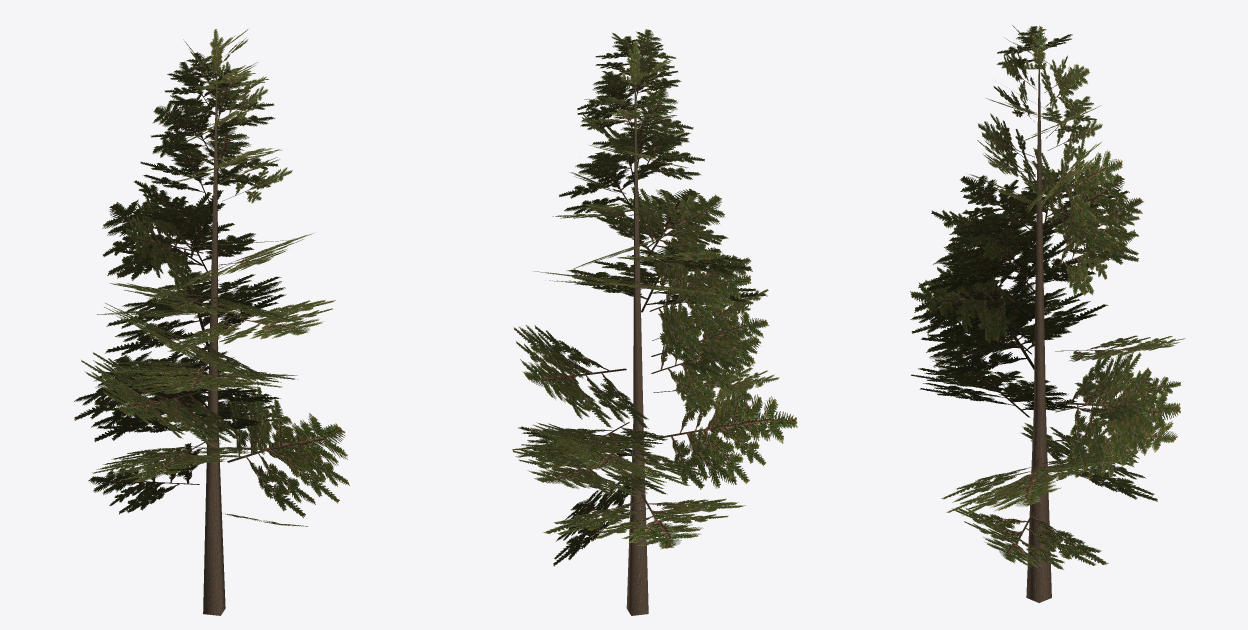
Rendered from fir_medium_a_lod5.gltf.
3 renders of one model, left to right at view 1: azimuth 30°, elevation 25°; view 2: azimuth 150°, elevation 25°; view 3: azimuth 270°, elevation 25°, orthographic. The views are drawn at different scales.
Visible parts, largest first — view 1: fir_medium_a_LOD5; view 2: fir_medium_a_LOD5; view 3: fir_medium_a_LOD5.
Boxes of the visible parts, x1,y1,x2,y2 form: fir_medium_a_LOD5: (74,29,349,615); fir_medium_a_LOD5: (512,29,797,615); fir_medium_a_LOD5: (910,25,1185,602).
Bounding box in the file's own units: 12.64 × 20.7 × 12.3.
Materials: 2 (2 with a texture image).
